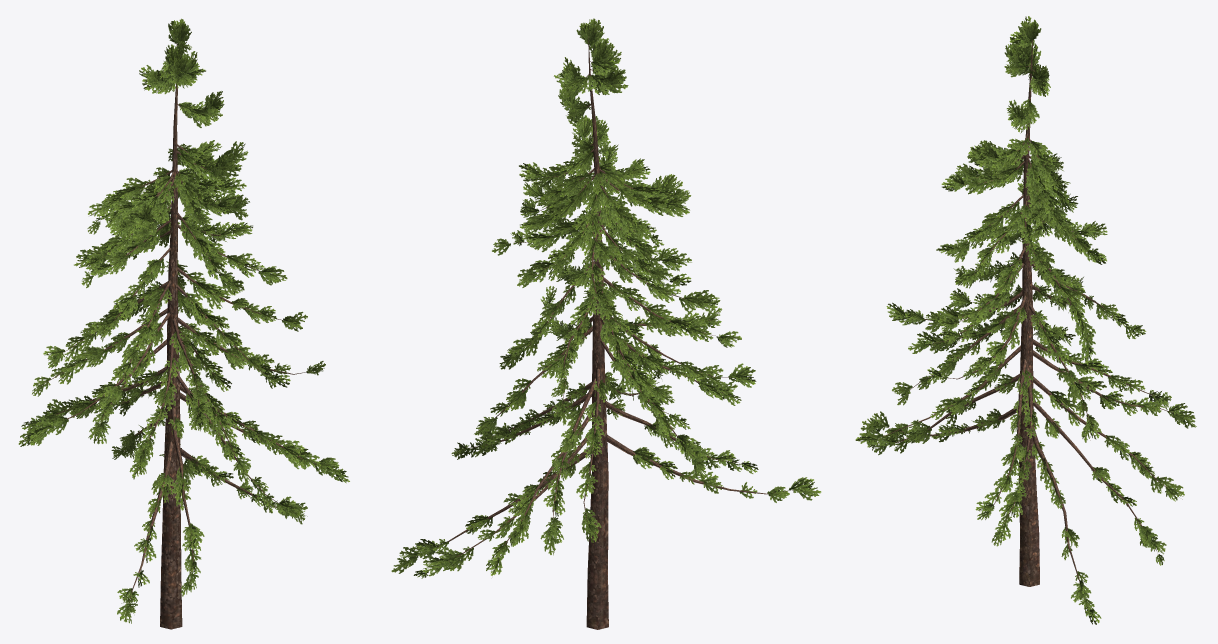
Rendered from pine_c.glb.
3 renders of one model, left to right at view 1: azimuth 30°, elevation 25°; view 2: azimuth 150°, elevation 25°; view 3: azimuth 270°, elevation 25°, orthographic. The views are drawn at different scales.
Parts seen in each view (by area): view 1: Tree; view 2: Tree; view 3: Tree.
Part boxes in pixels (<box>): Tree: <box>18,18,349,629</box>; Tree: <box>391,18,821,629</box>; Tree: <box>855,16,1196,624</box>.
Size of the model in its own units: 36.49 by 66.5 by 36.94.
2 materials, 2 textured.
